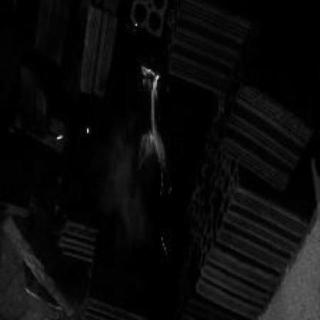Fire: (122, 63, 180, 180)
